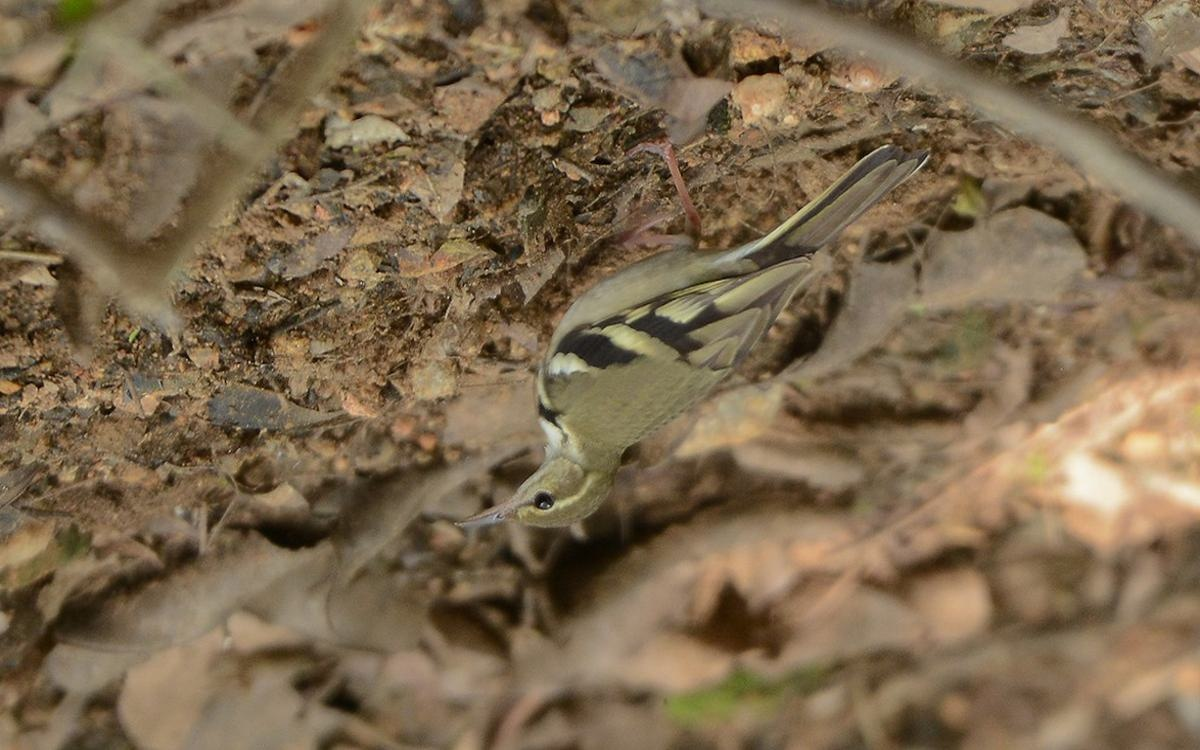wagtail: (455, 145, 898, 546)
